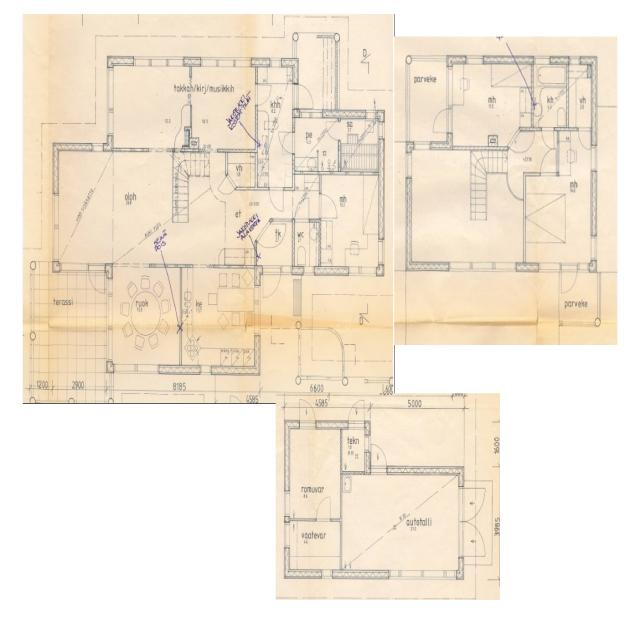door: (256, 222, 282, 260), (458, 488, 486, 523), (458, 522, 486, 556), (508, 129, 531, 165), (263, 266, 280, 300), (430, 108, 452, 133), (348, 396, 364, 429), (292, 84, 314, 108), (218, 173, 236, 202), (371, 443, 387, 475), (89, 266, 105, 298), (561, 264, 577, 295), (300, 397, 315, 429), (318, 194, 336, 218), (540, 150, 556, 176), (256, 84, 272, 106), (278, 132, 294, 154), (316, 498, 330, 522), (269, 187, 283, 211), (295, 198, 309, 222), (578, 126, 590, 148), (542, 126, 554, 148), (326, 122, 340, 140)
